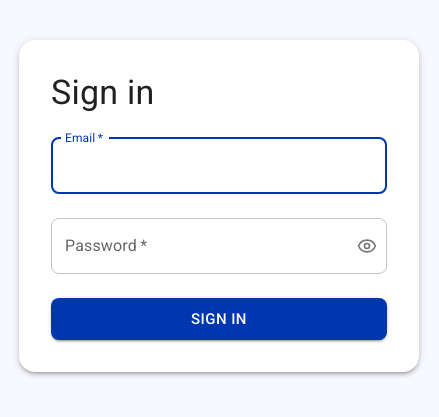
Login › will not submit an empty form
Click the button "Sign in": (219, 319) [51,298,387,340]
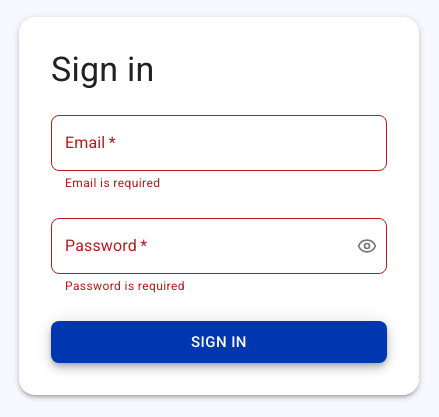
Check: the text "Email is required" is shown, box [65,176,160,190]
Check: the text "Password is required" is shown, box [65,279,185,293]
